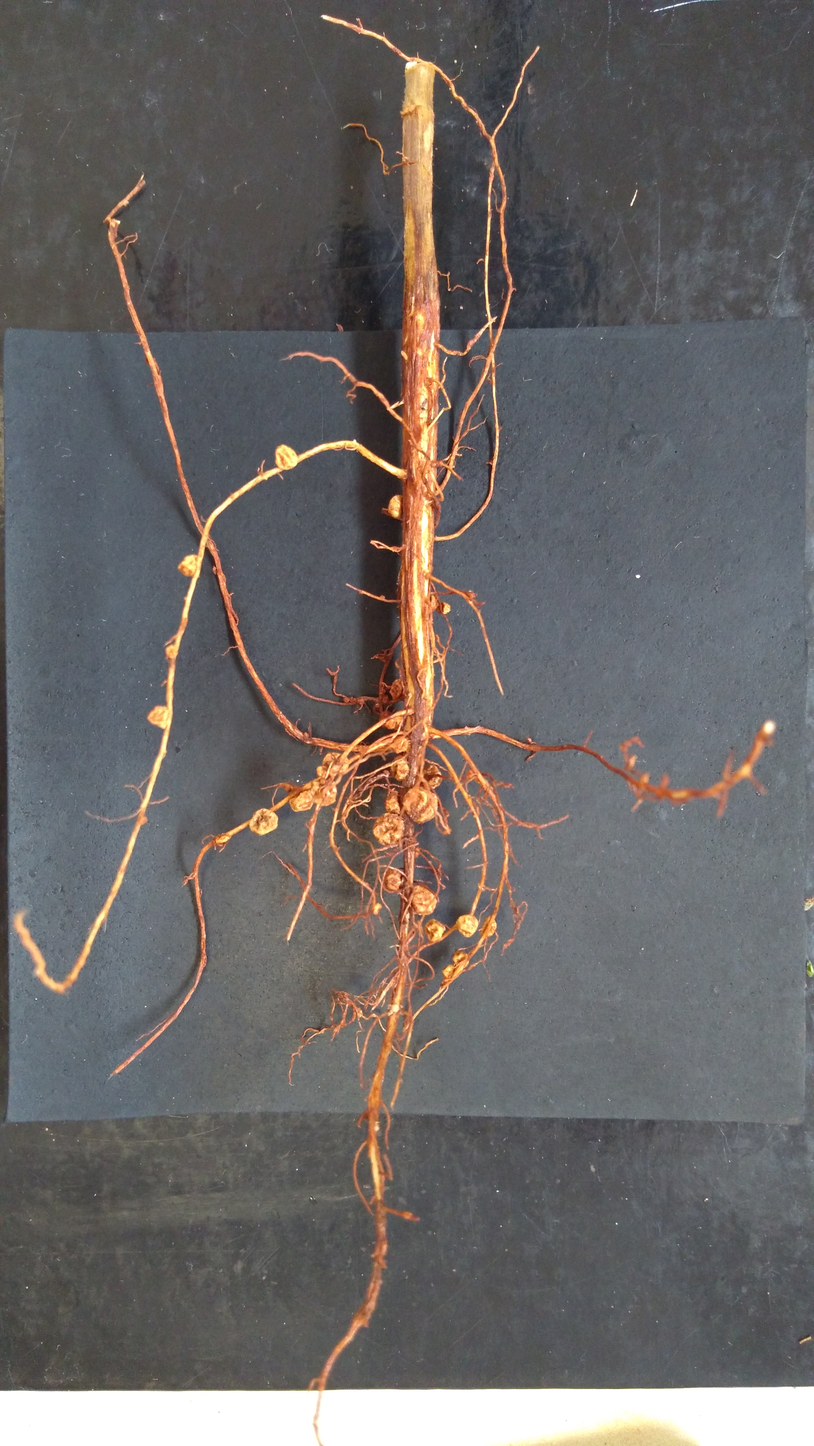nodule: (401, 787, 440, 825), (370, 811, 405, 845), (248, 806, 281, 837), (411, 884, 438, 916), (143, 702, 171, 732), (273, 442, 299, 470), (312, 782, 339, 808), (385, 491, 407, 522), (176, 552, 202, 578), (419, 762, 443, 790), (454, 913, 479, 939), (287, 789, 314, 813), (423, 917, 447, 944), (321, 751, 350, 772), (382, 867, 404, 894), (390, 755, 411, 783), (378, 709, 403, 730), (384, 789, 402, 814), (480, 915, 498, 938), (450, 950, 470, 969), (388, 678, 403, 701), (392, 736, 409, 754), (436, 601, 452, 616), (441, 963, 454, 981), (370, 901, 383, 917), (165, 645, 179, 658), (429, 594, 439, 612)
